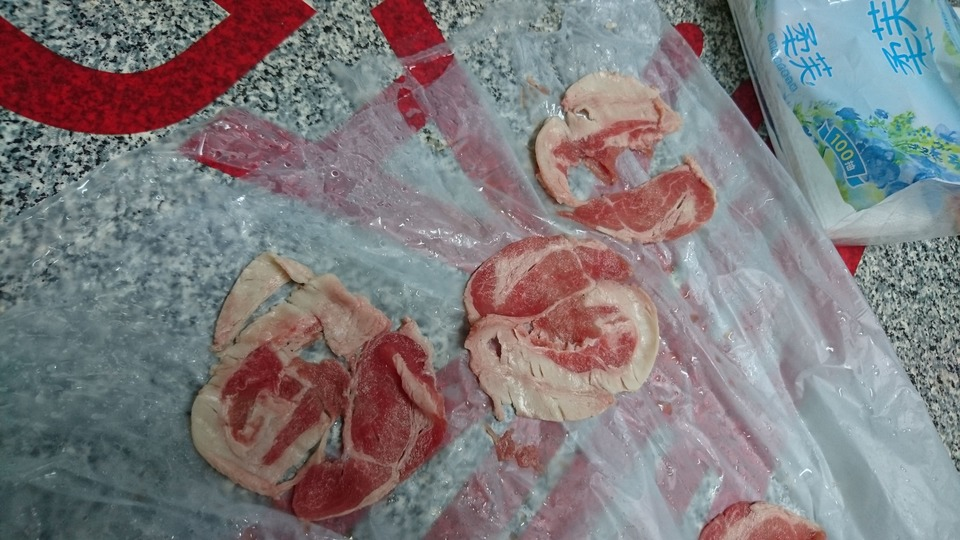restructured meat: (181, 246, 459, 528), (463, 215, 664, 429), (534, 64, 714, 249)
